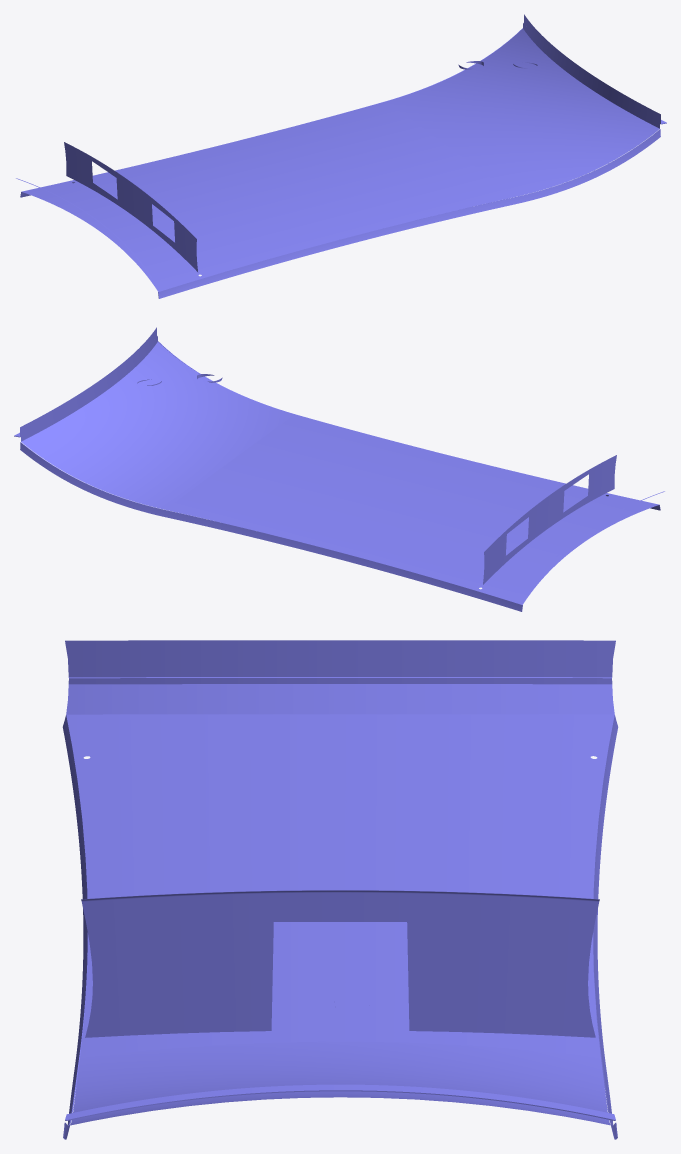
Rendered from HULLS, INTERNALS, ETC.__CTR BEAM FROM EXIST. PART MSMTS__ctr beam outside surfaces.gltf.
3 views of the same model, one above another, from view 1: azimuth 30°, elevation 25°; view 2: azimuth 150°, elevation 25°; view 3: azimuth 270°, elevation 25° (orthographic). The views are drawn at different scales.
Visible parts, largest first — view 1: object 4, lower; view 2: object 4, lower; view 3: object 4, lower (×2), object 1.
Part boxes in pixels (x1,y1,x2,y2): object 4: (16, 14, 660, 291); lower: (158, 129, 660, 298); object 4: (20, 327, 664, 604); lower: (20, 442, 522, 611); object 4: (65, 640, 615, 1125); lower (×2): (62, 715, 618, 1139); object 1: (65, 1084, 615, 1120).
Size of the model in its own units: 6.72 by 1.18 by 3.14.
